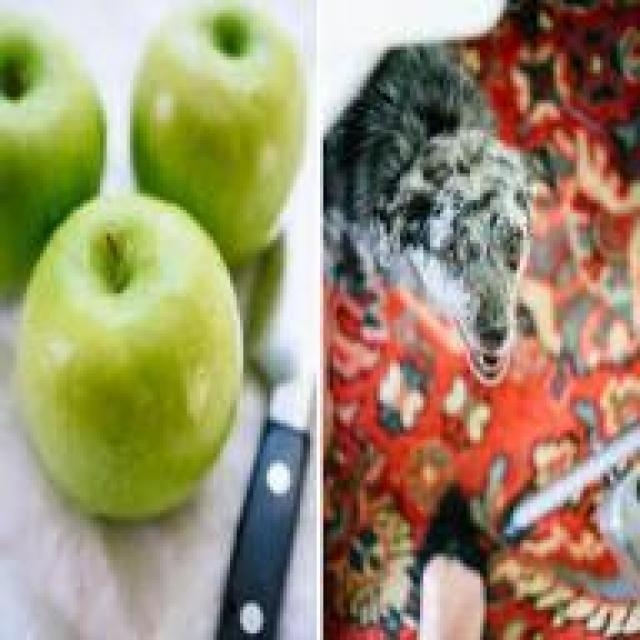apple: (23, 217, 250, 503), (133, 13, 307, 240)
